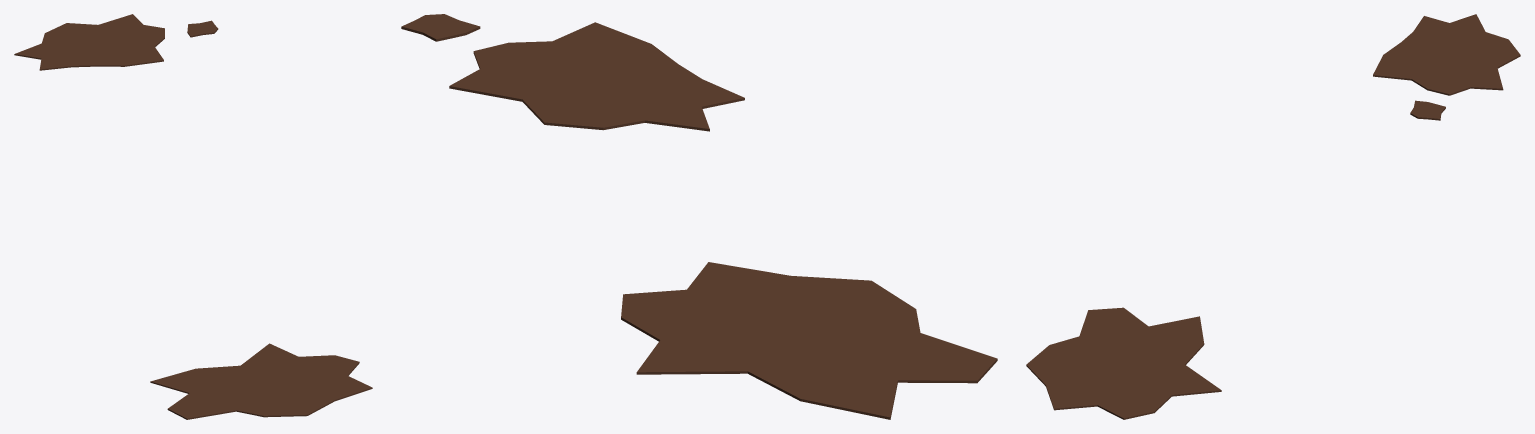
Rendered from CoffeeSpill.fbx.
3 renders of one model, left to right at view 1: azimuth 30°, elevation 25°; view 2: azimuth 150°, elevation 25°; view 3: azimuth 270°, elevation 25°, orthographic. The views are drawn at different scales.
Parts seen in each view (by area): view 1: CoffeeSpillBody; view 2: CoffeeSpillBody; view 3: CoffeeSpillBody.
Part boxes in pixels (left/top/right/bottom): CoffeeSpillBody: left=14, top=14, right=372, bottom=419; CoffeeSpillBody: left=401, top=14, right=997, bottom=419; CoffeeSpillBody: left=1026, top=14, right=1520, bottom=419.
Bounding box in the file's own units: 0.6161 × 0.744 × 1.14.
